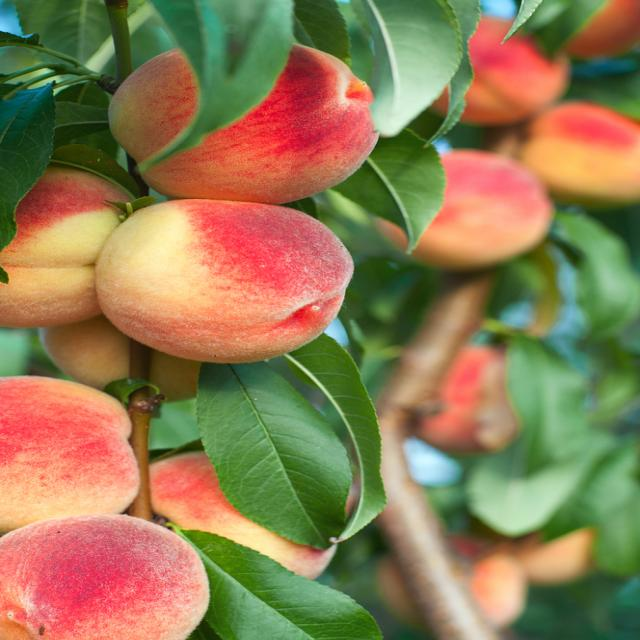peach: (0, 0, 627, 640)
